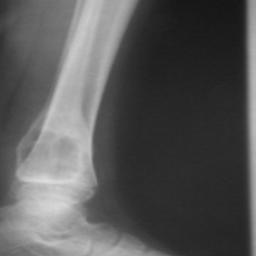cancer: (16, 31, 91, 185)
